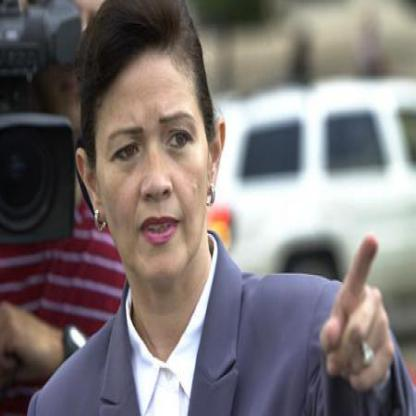face: (93, 1, 212, 292)
